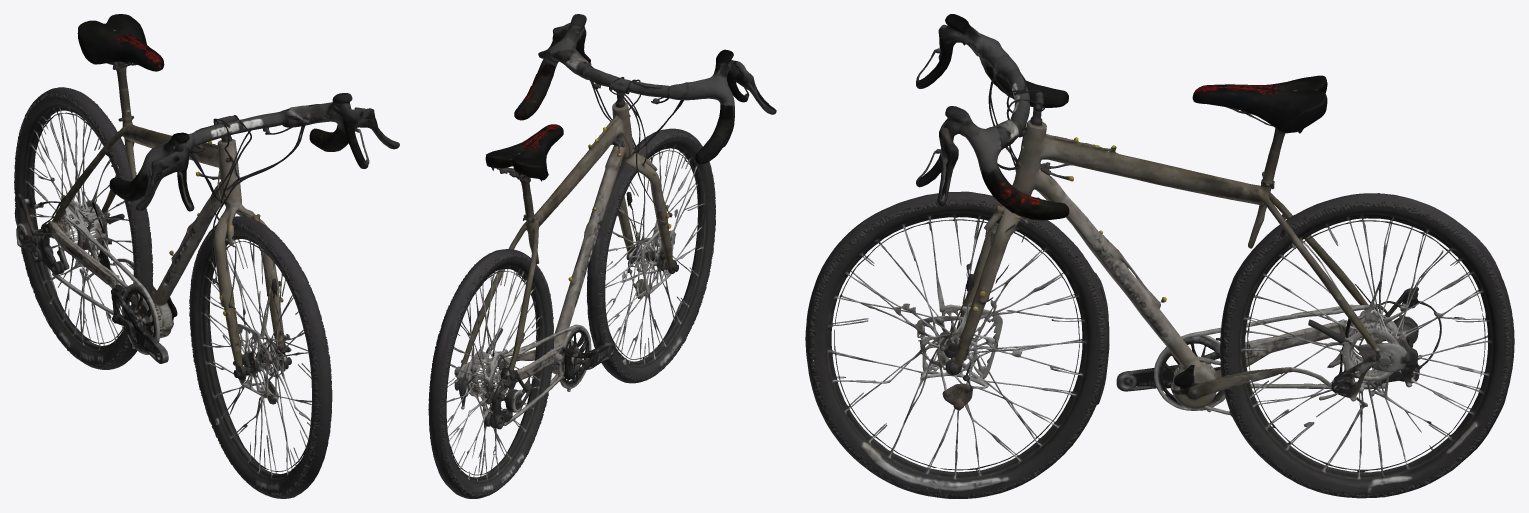
Rendered from stateroad.glb.
3 views of the same model, side by side, from view 1: azimuth 30°, elevation 25°; view 2: azimuth 150°, elevation 25°; view 3: azimuth 270°, elevation 25° (orthographic). The views are drawn at different scales.
Parts seen in each view (by area): view 1: geometry_0; view 2: geometry_0; view 3: geometry_0.
Part boxes in pixels (x1,y1,x2,y2): geometry_0: (14, 14, 399, 498); geometry_0: (428, 14, 776, 498); geometry_0: (805, 14, 1514, 498).
Size of the model in its own units: 0.4956 by 0.6788 by 1.
Materials: 1 (1 with a texture image).
